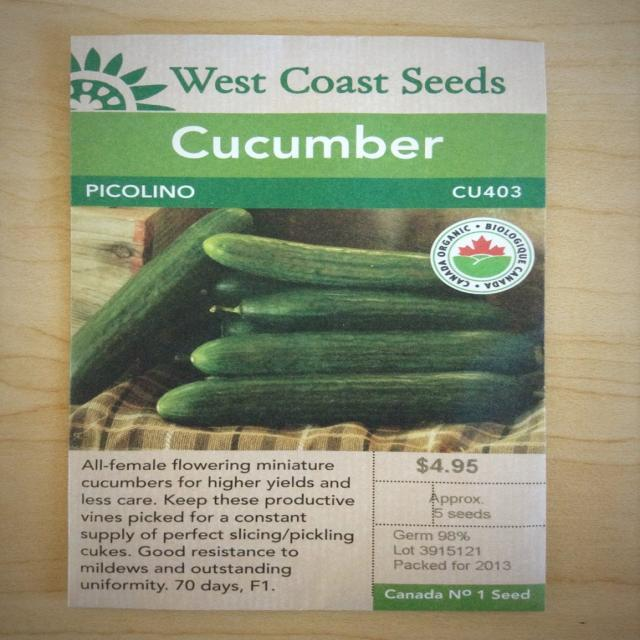Cucumber: (132, 217, 479, 431)
